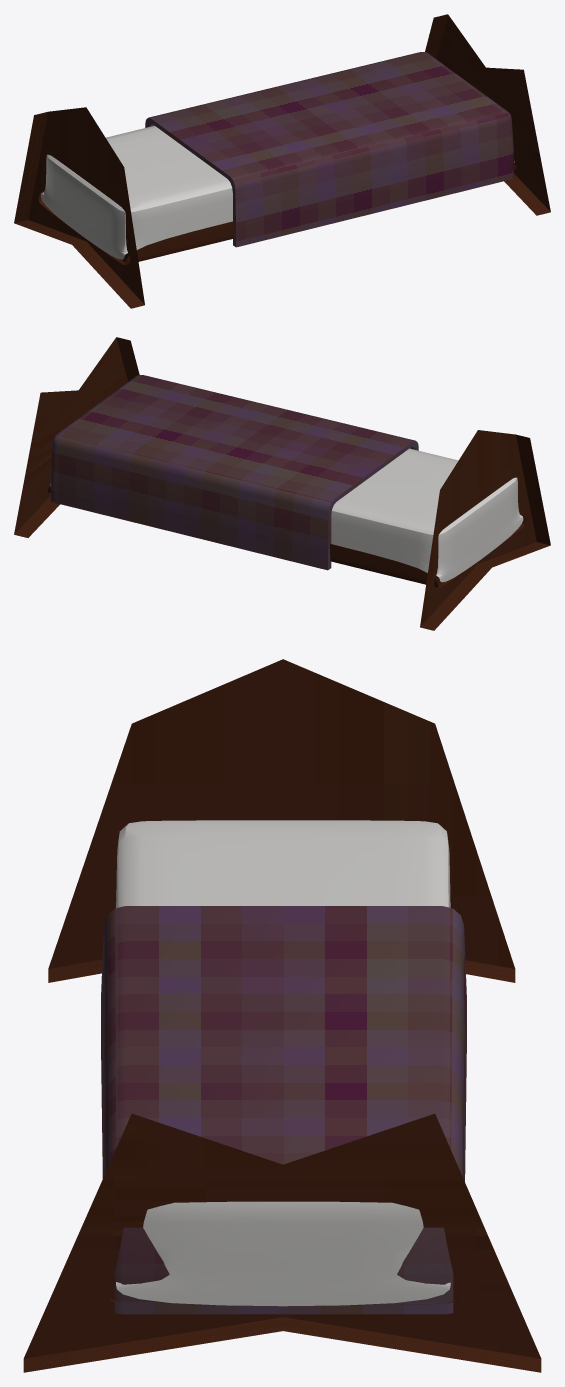
File: bed.glb
The picture shows the model from 3 angles, top to bottom: view 1: azimuth 30°, elevation 25°; view 2: azimuth 150°, elevation 25°; view 3: azimuth 270°, elevation 25°; orthographic projection. The views are drawn at different scales.
Parts seen in each view (by area): view 1: bed; view 2: bed; view 3: bed.
Part boxes in pixels (bbox=[...]): bed: bbox=[14, 14, 550, 308]; bed: bbox=[14, 337, 550, 630]; bed: bbox=[23, 659, 541, 1372].
Size of the model in its own units: 2.92 by 1.04 by 1.58.
Materials: 3 (3 with a texture image).
